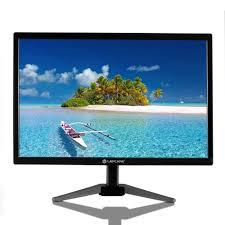monitor: (10, 26, 213, 184)
